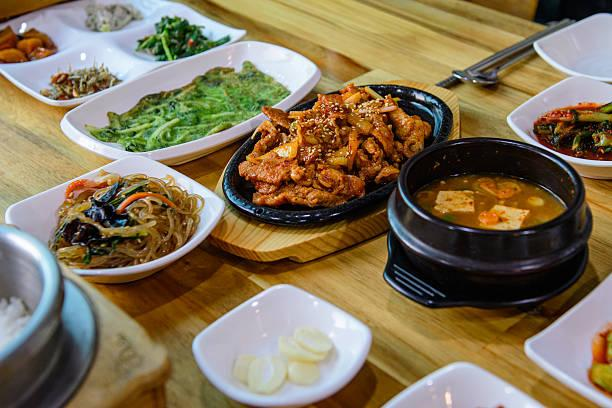Braised Crucian Carp: (208, 71, 461, 267), (385, 137, 591, 306), (63, 37, 323, 166)
